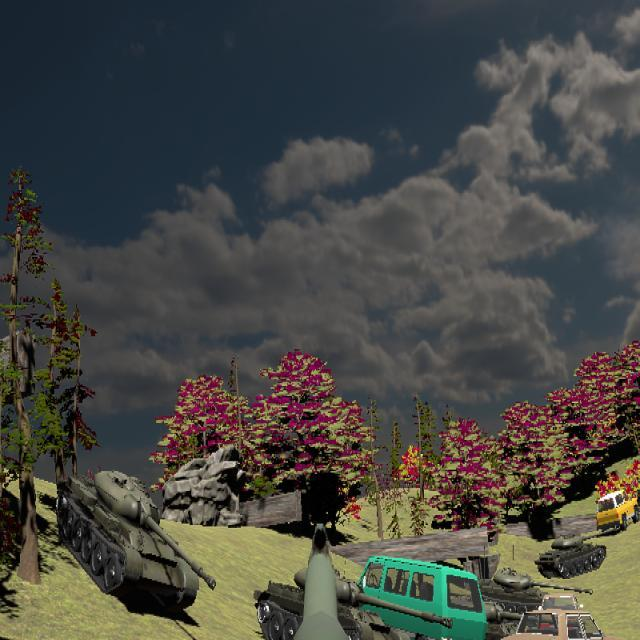Tank: (55, 470, 217, 613), (466, 567, 593, 623), (535, 533, 607, 580)
car: (354, 557, 489, 640), (486, 607, 639, 640), (596, 490, 637, 534)
